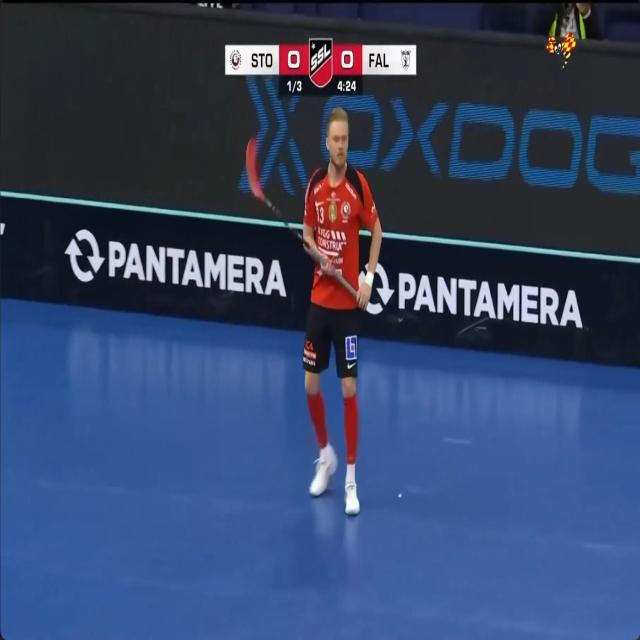player: (303, 108, 381, 514)
stick: (246, 138, 323, 264)
